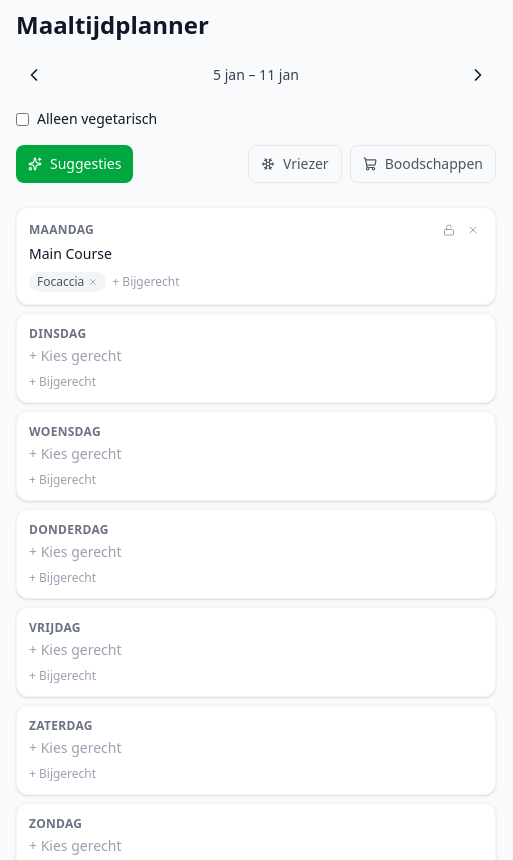
it: Planner side dishes › removes a side dish chip
What coordinates should you click on to do the following:
click the button without text next to "Focaccia"
I would click on:
 (93, 282)
Its box is [88, 277, 98, 287].
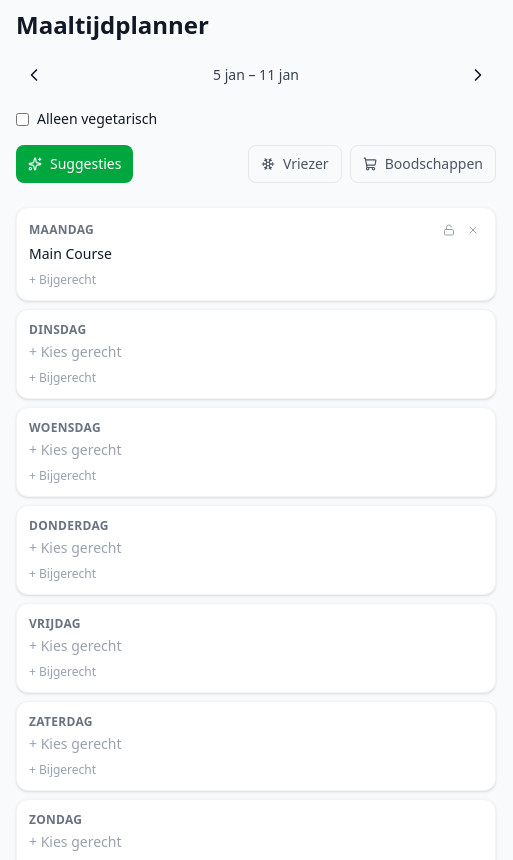
Result: the text "Focaccia" is gone
